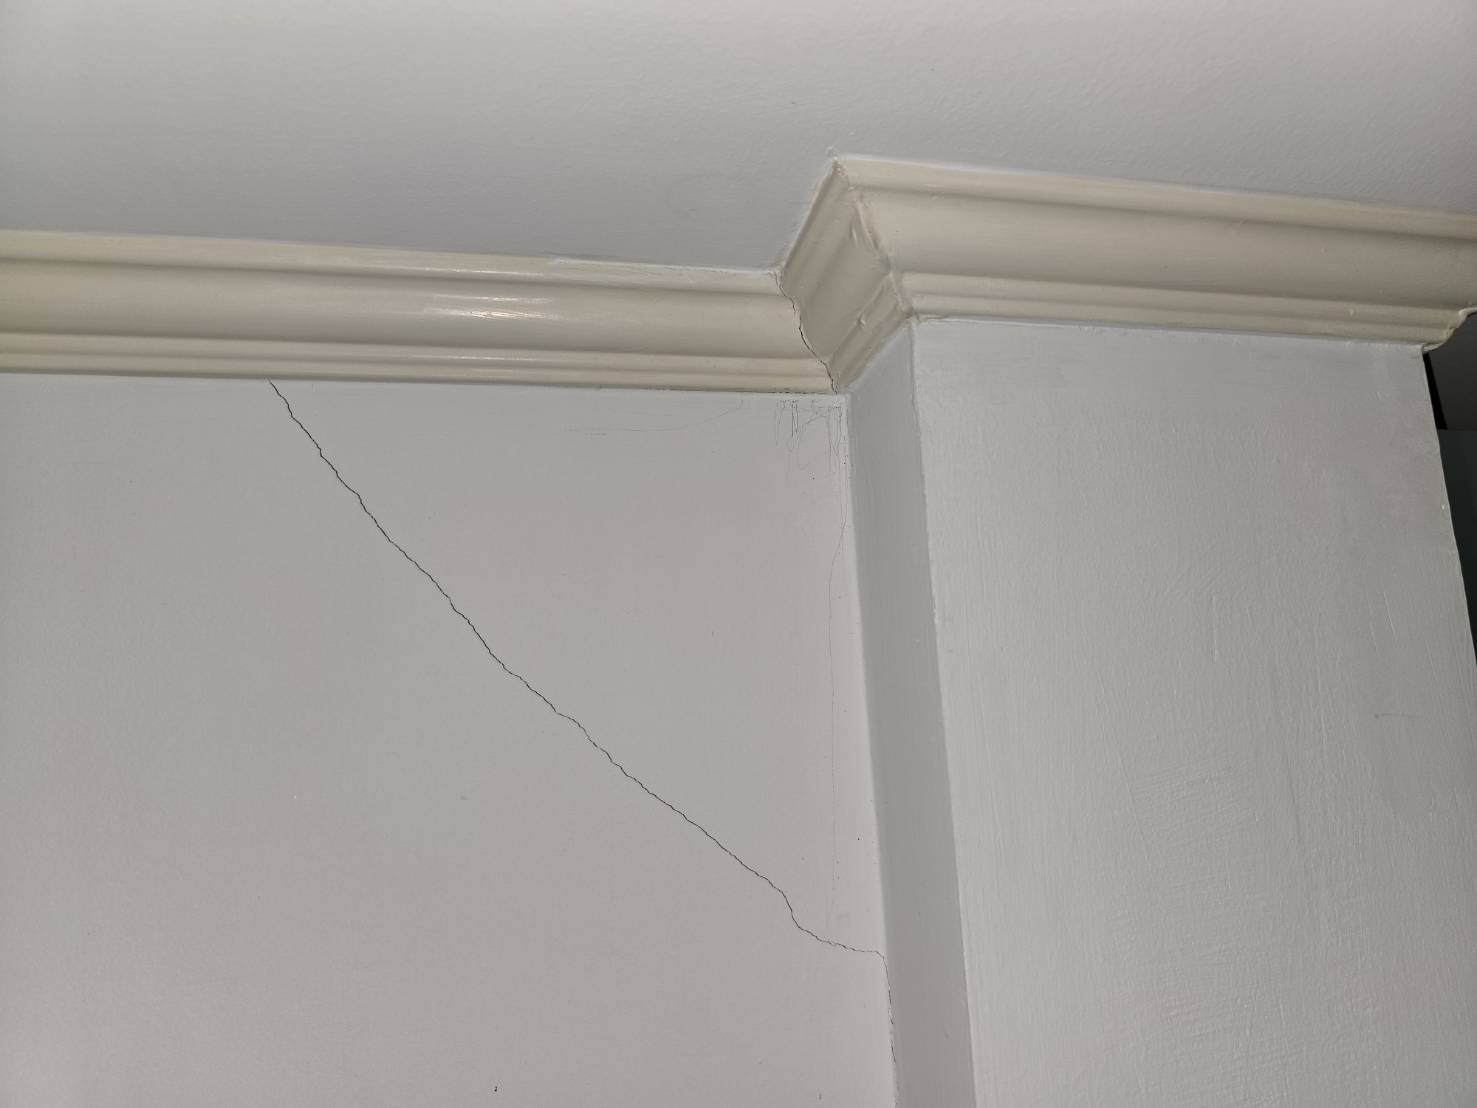Low: (241, 376, 911, 1034)
